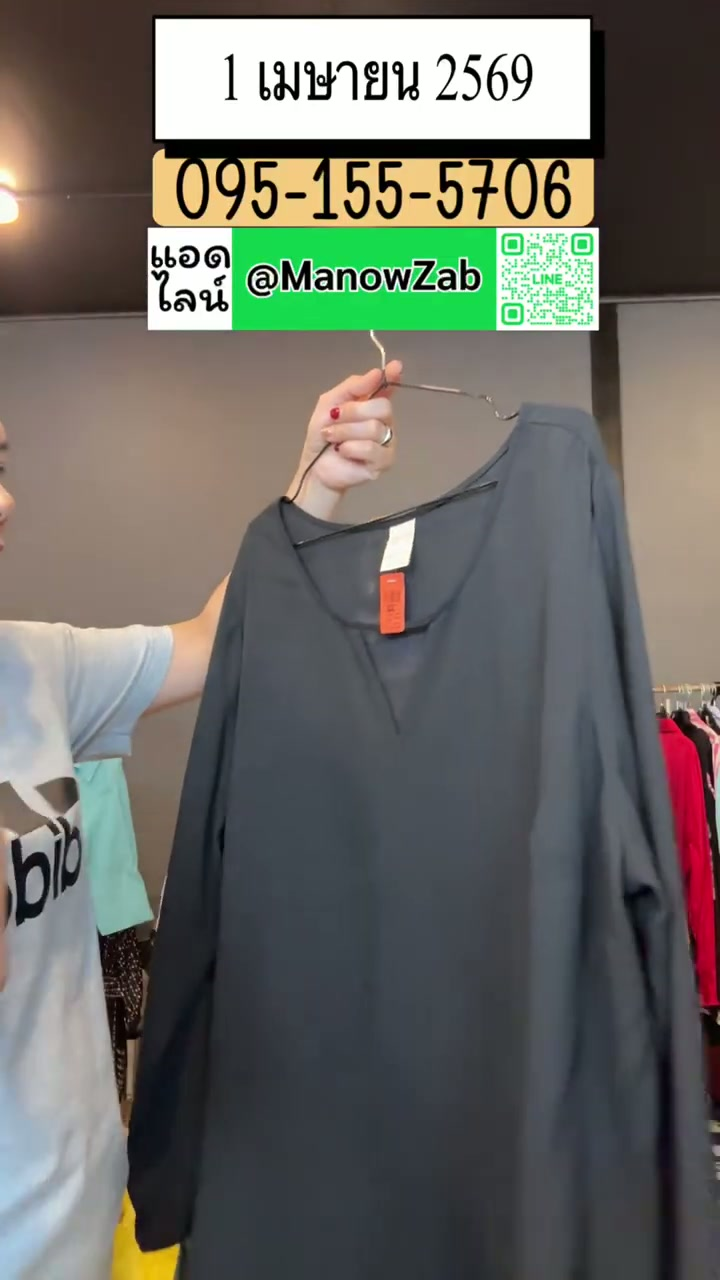display_shirt: (129, 405, 716, 1279)
